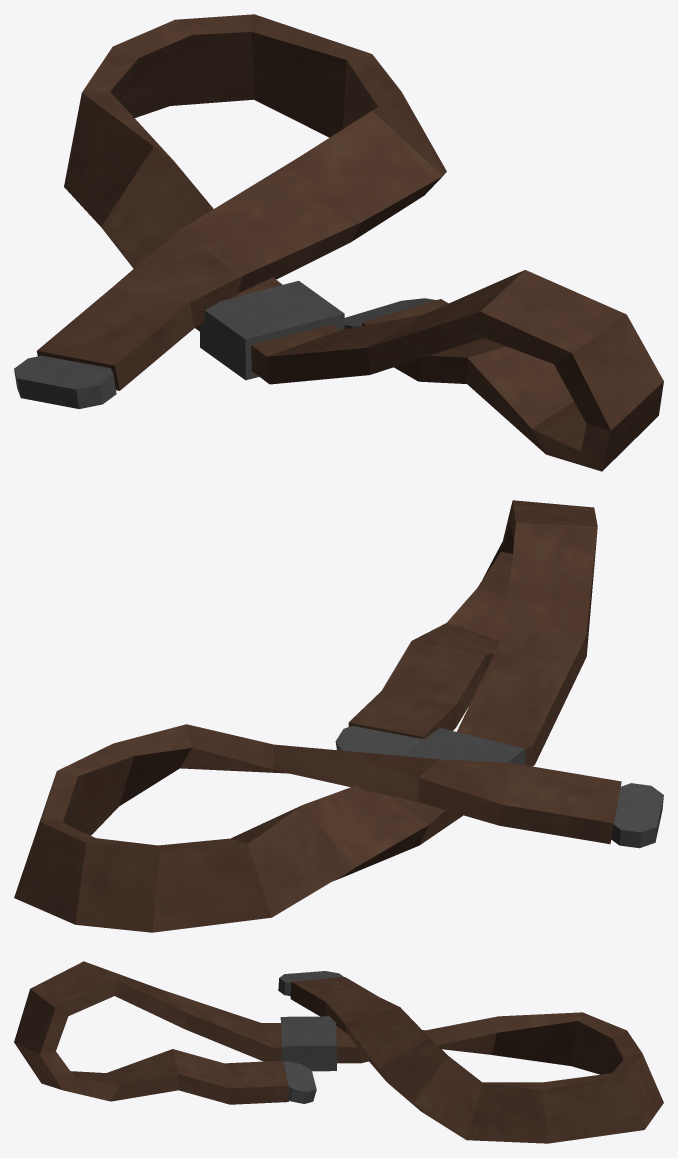
The model's file is sling_ground.fbx.
3 views of the same model, one above another, from view 1: azimuth 30°, elevation 25°; view 2: azimuth 150°, elevation 25°; view 3: azimuth 270°, elevation 25° (orthographic). The views are drawn at different scales.
Visible parts, largest first — view 1: Sling_Ground; view 2: Sling_Ground; view 3: Sling_Ground.
Part boxes in pixels (bbox=[...]): Sling_Ground: bbox=[14, 14, 663, 471]; Sling_Ground: bbox=[14, 500, 663, 932]; Sling_Ground: bbox=[14, 961, 663, 1143].
Size of the model in its own units: 0.1286 by 0.0406 by 0.2163.
